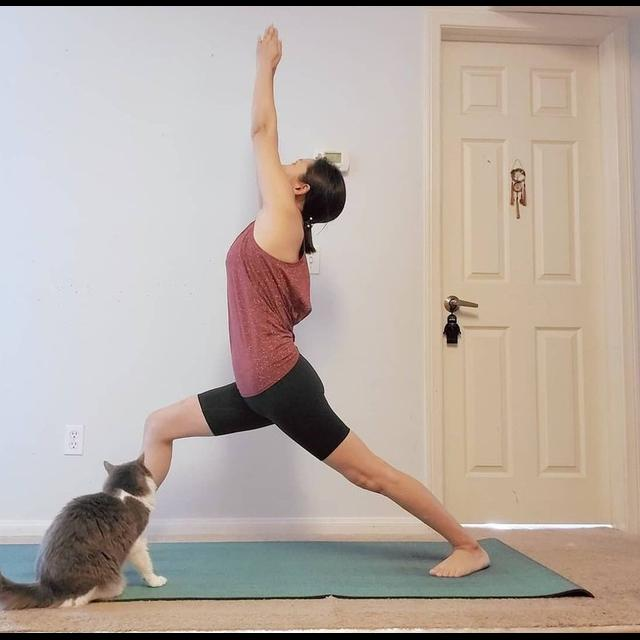Warrior_I: (93, 15, 492, 577)
